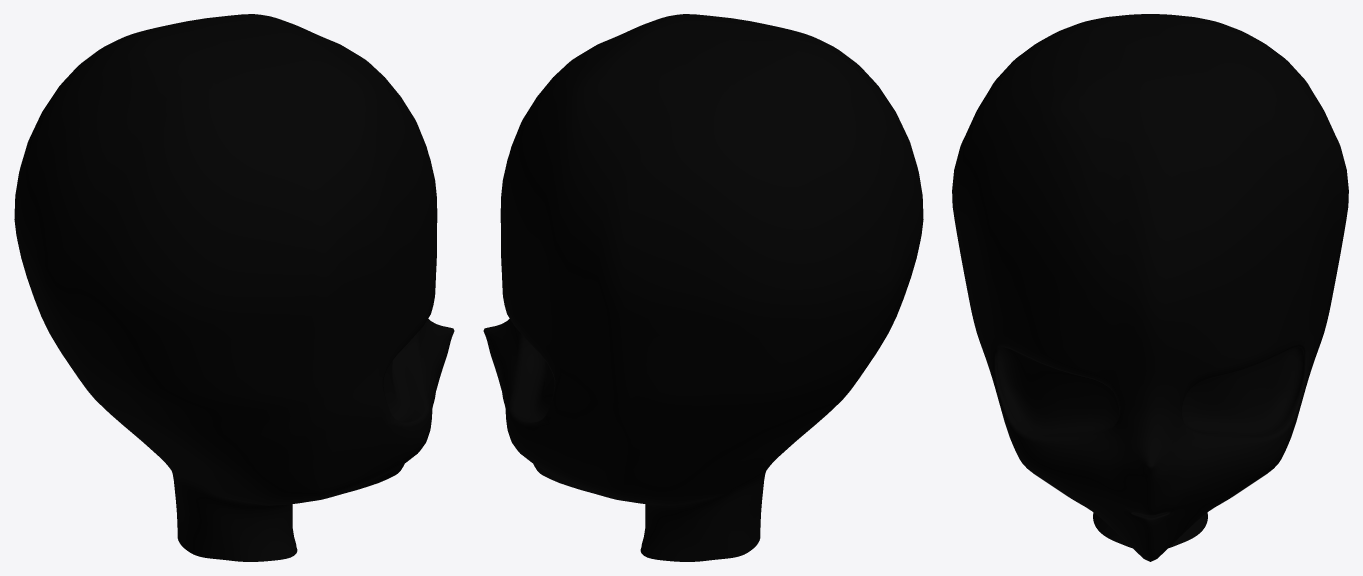
File: 3D_Daiko_Head.fbx
3 renders of one model, left to right at view 1: azimuth 30°, elevation 25°; view 2: azimuth 150°, elevation 25°; view 3: azimuth 270°, elevation 25°, orthographic. The views are drawn at different scales.
Parts seen in each view (by area): view 1: text; view 2: text; view 3: text.
Boxes of the visible parts, left/top/right/bottom form: text: left=14, top=14, right=454, bottom=561; text: left=483, top=14, right=923, bottom=561; text: left=952, top=14, right=1348, bottom=561.
Bounding box in the file's own units: 29.98 × 35.93 × 26.87.
1 material, 1 textured.
